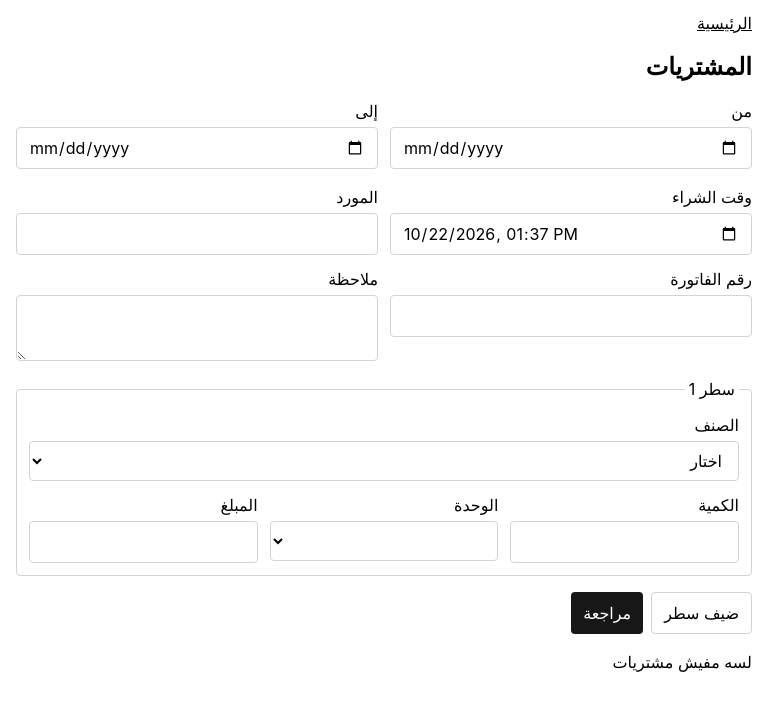
Test: PurchasesPage › asks for another review when the conversion changed and keeps the draft
The width and height of the screenshot is (769, 707).
Expected: the field labelled "وقت الشراء" is shown, [390,213,752,255]
Select "زيت" in the dropdown labelled "الصنف". click: (384,461)
box: [29,441,739,481]
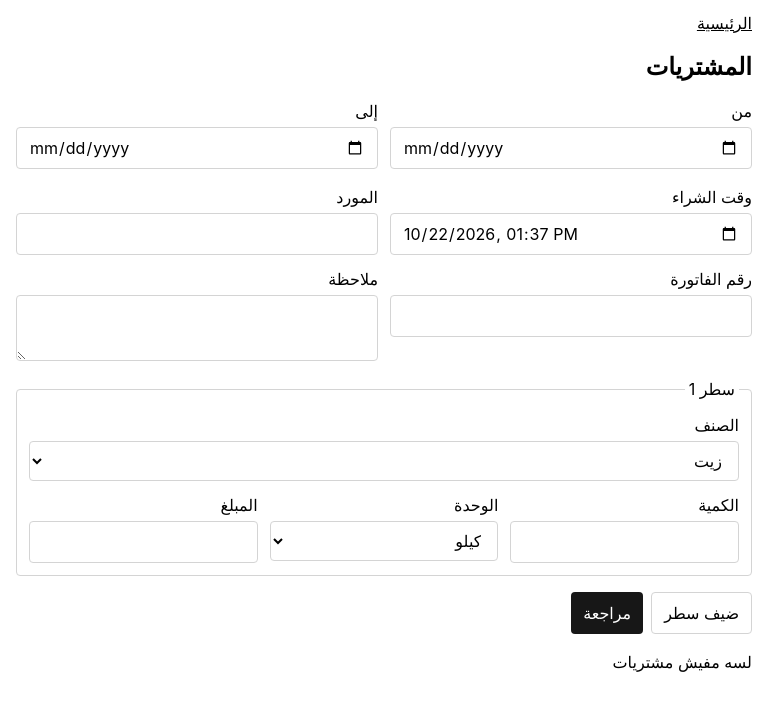
Type "2" into the field labelled "الكمية". click: (625,542)
box: [510,521,739,563]
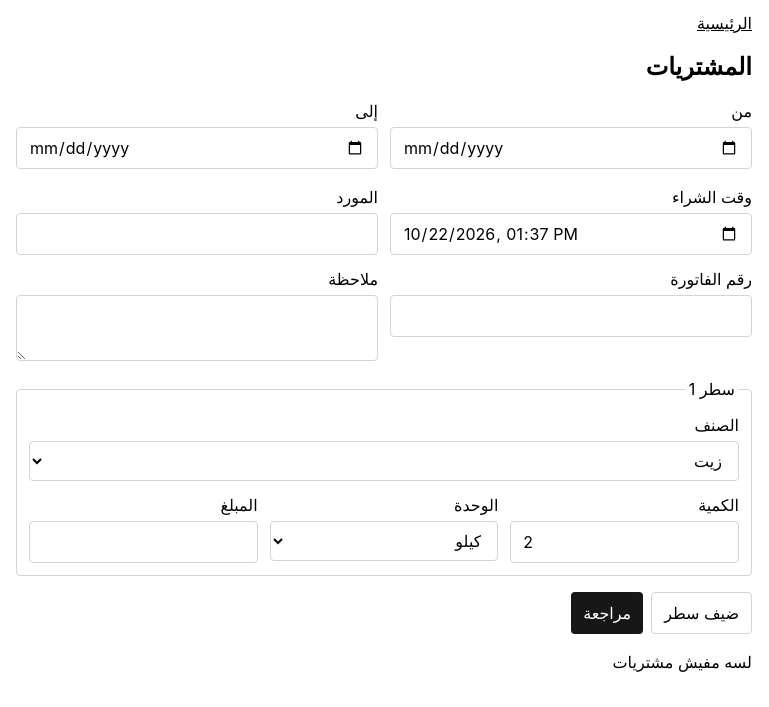
Select "لتر" in the dropdown labelled "الوحدة". click: (384,541)
box: [270,521,498,561]
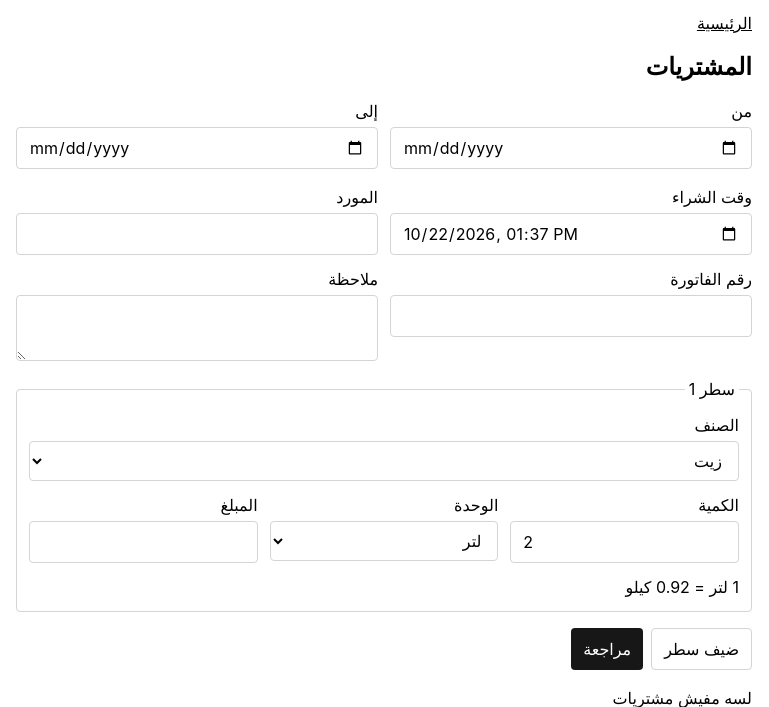
Type "50" into the field labelled "المبلغ". click: (143,542)
box: [29,521,258,563]
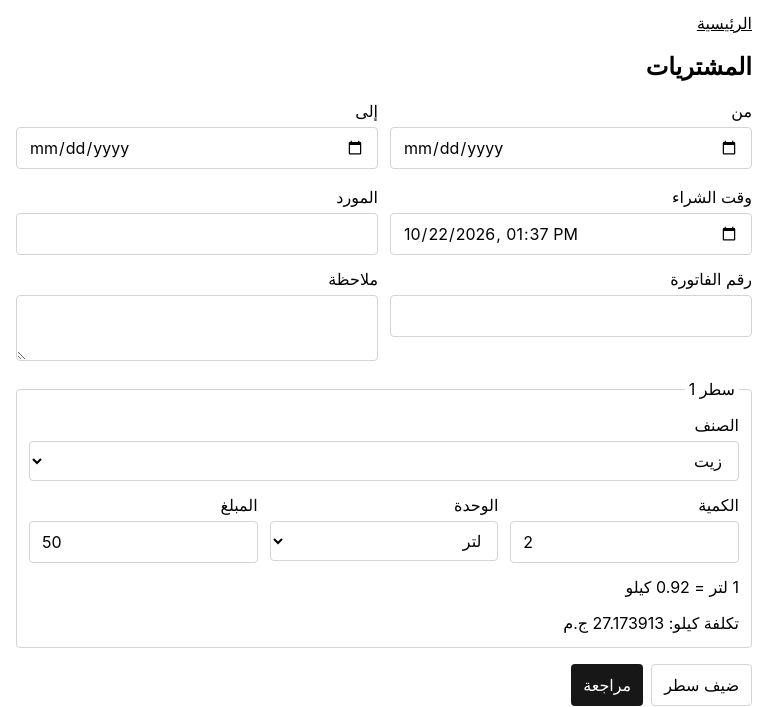
Click the button "مراجعة". click: (607,685)
box: [571,664,643,706]
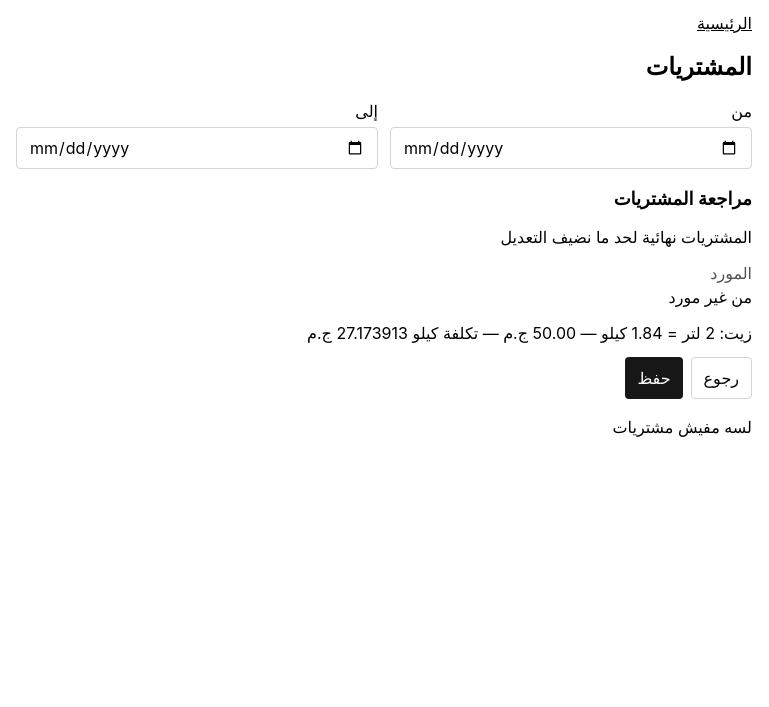
Click the button "حفظ". click: (654,378)
box: [625,357,683,399]
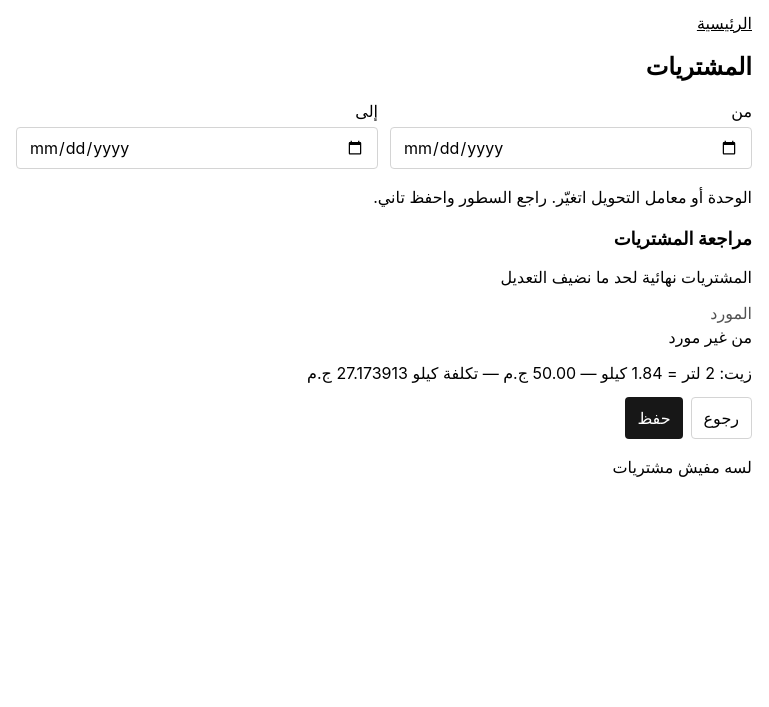
Expected: the button "حفظ" is enabled, [625,397,683,439]
Result: the text "المشتريات نهائية لحد ما نضيف التعديل" is shown at [500,267,752,287]
Result: the message reads "الوحدة أو معامل التحويل اتغيّر. راجع السطور واحفظ تاني." at [373,187,752,207]
